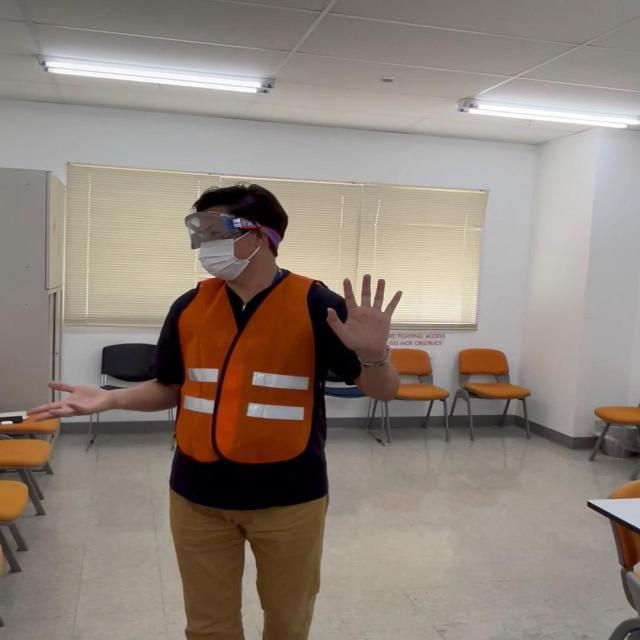bare_hand: (319, 270, 404, 362), (24, 378, 117, 425)
